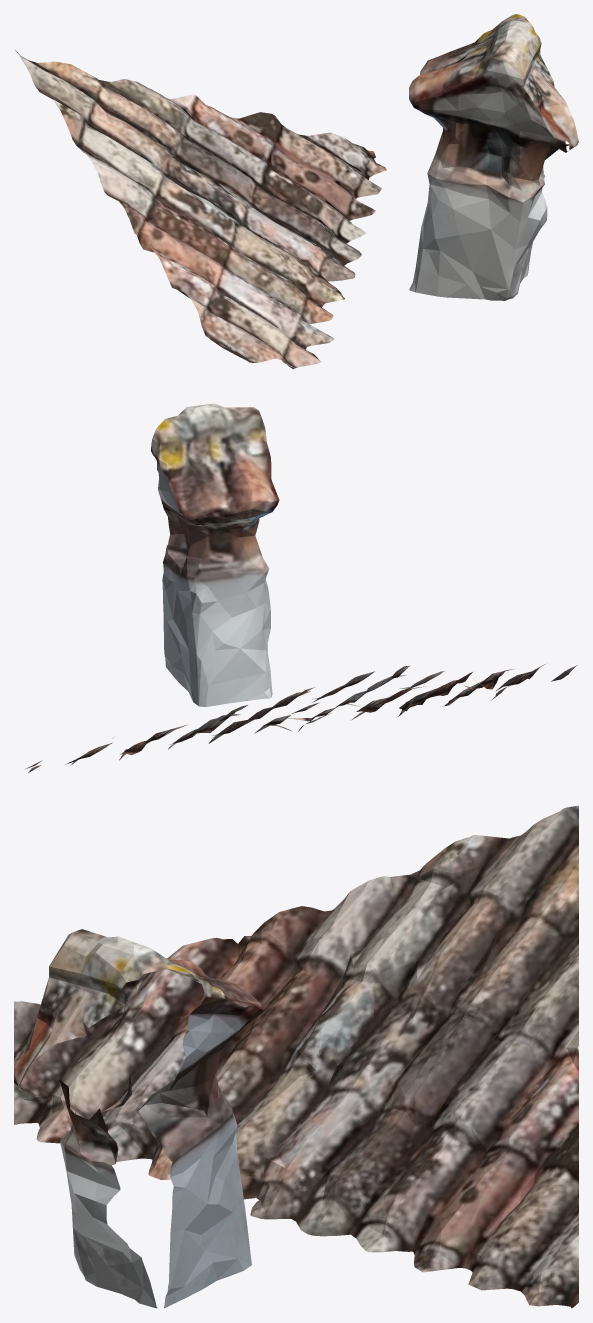
3 renders of one model, top to bottom at view 1: azimuth 30°, elevation 25°; view 2: azimuth 150°, elevation 25°; view 3: azimuth 270°, elevation 25°, orthographic. The views are drawn at different scales.
Size of the model in its own units: 1.67 by 1.14 by 1.67.
Materials: 3 (3 with a texture image).
